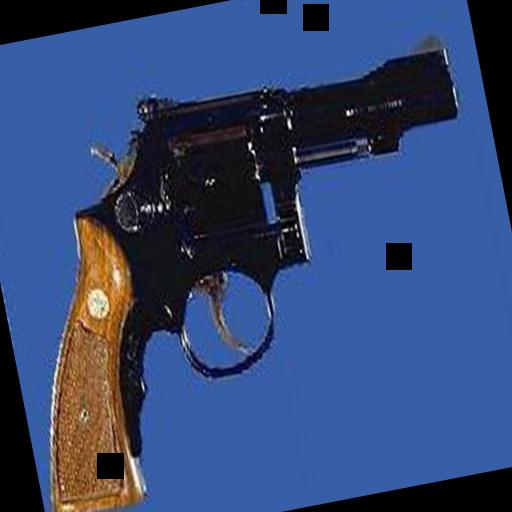Handgun: (0, 29, 512, 512)
